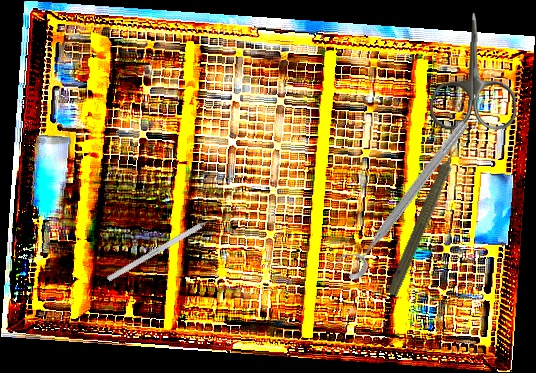Fixation Ring: (331, 110, 474, 284)
Handpiece: (384, 137, 469, 299)
Hook Surgical: (106, 210, 225, 282)
Iris Scissors: (429, 11, 519, 131)
